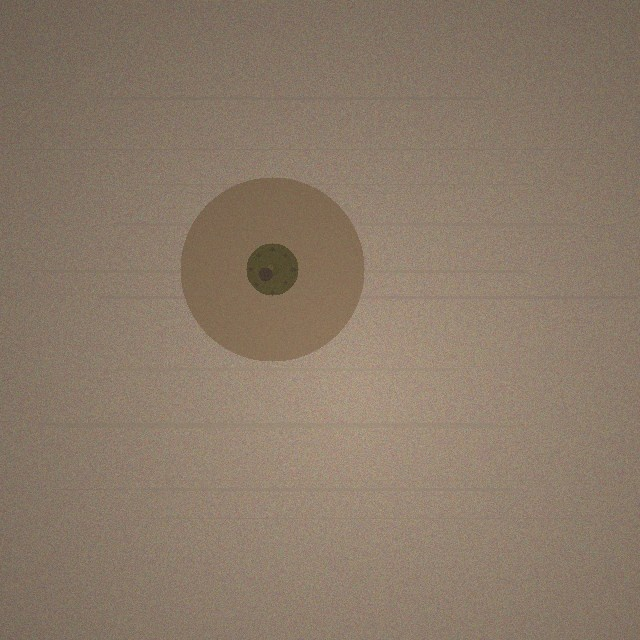cold_weld: (180, 177, 364, 361)
